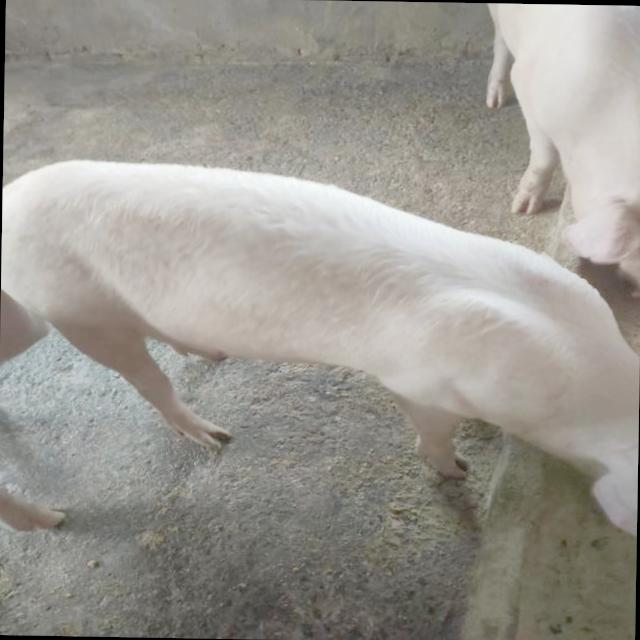pig: (1, 161, 639, 532), (486, 3, 640, 286)
